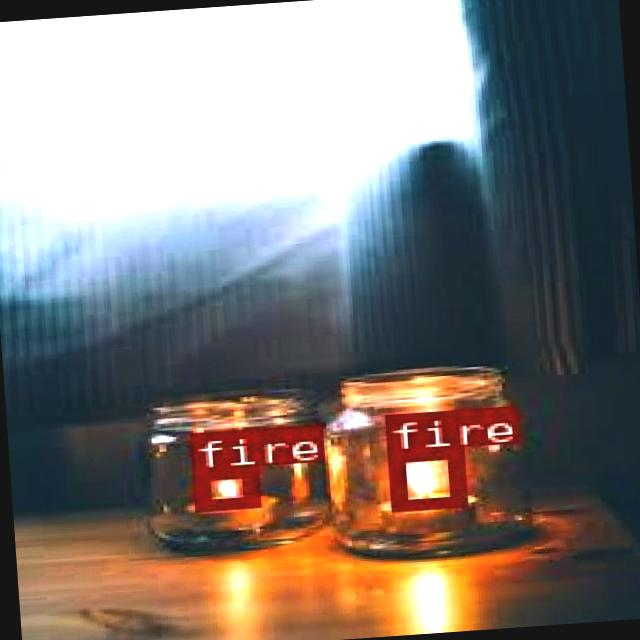fire: (383, 446, 462, 508), (189, 466, 256, 508)
